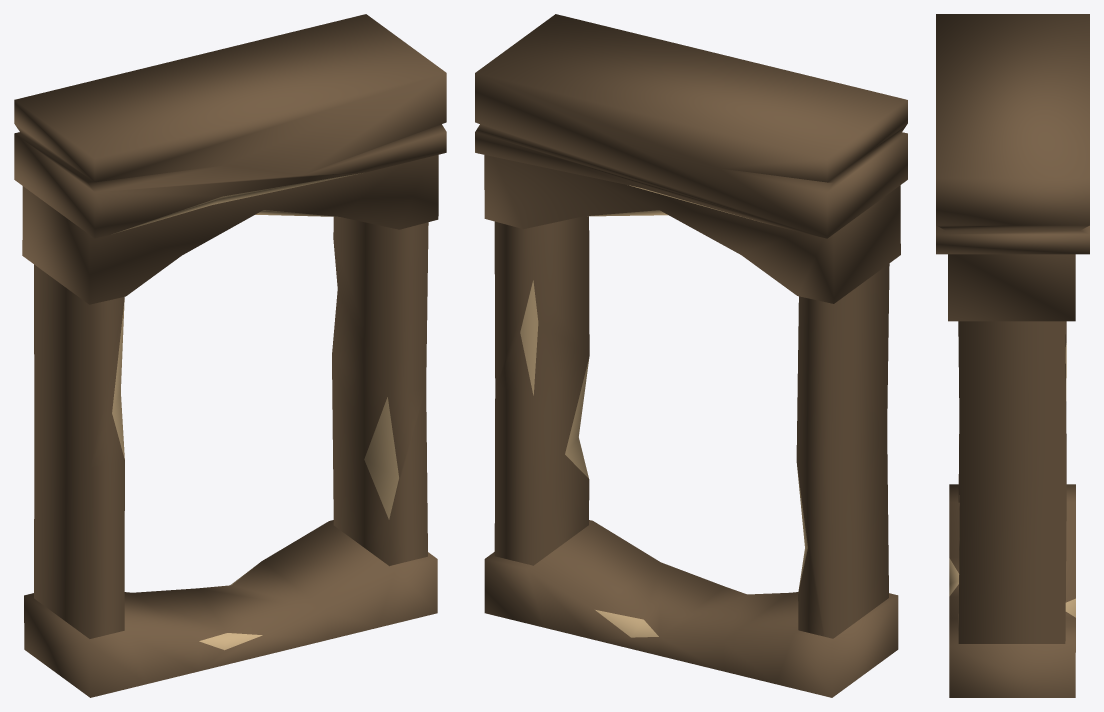
The model's file is rpgpp_ag_door_frame_01.fbx.
3 views of the same model, side by side, from view 1: azimuth 30°, elevation 25°; view 2: azimuth 150°, elevation 25°; view 3: azimuth 270°, elevation 25° (orthographic). The views are drawn at different scales.
Parts seen in each view (by area): view 1: rpgpp_ag_door_frame_01; view 2: rpgpp_ag_door_frame_01; view 3: rpgpp_ag_door_frame_01.
Boxes of the visible parts, box(x1,y1,x2,y2) form: rpgpp_ag_door_frame_01: box(14, 14, 446, 697); rpgpp_ag_door_frame_01: box(475, 14, 907, 697); rpgpp_ag_door_frame_01: box(936, 14, 1089, 697).
Size of the model in its own units: 2.03 by 3 by 0.8031.
